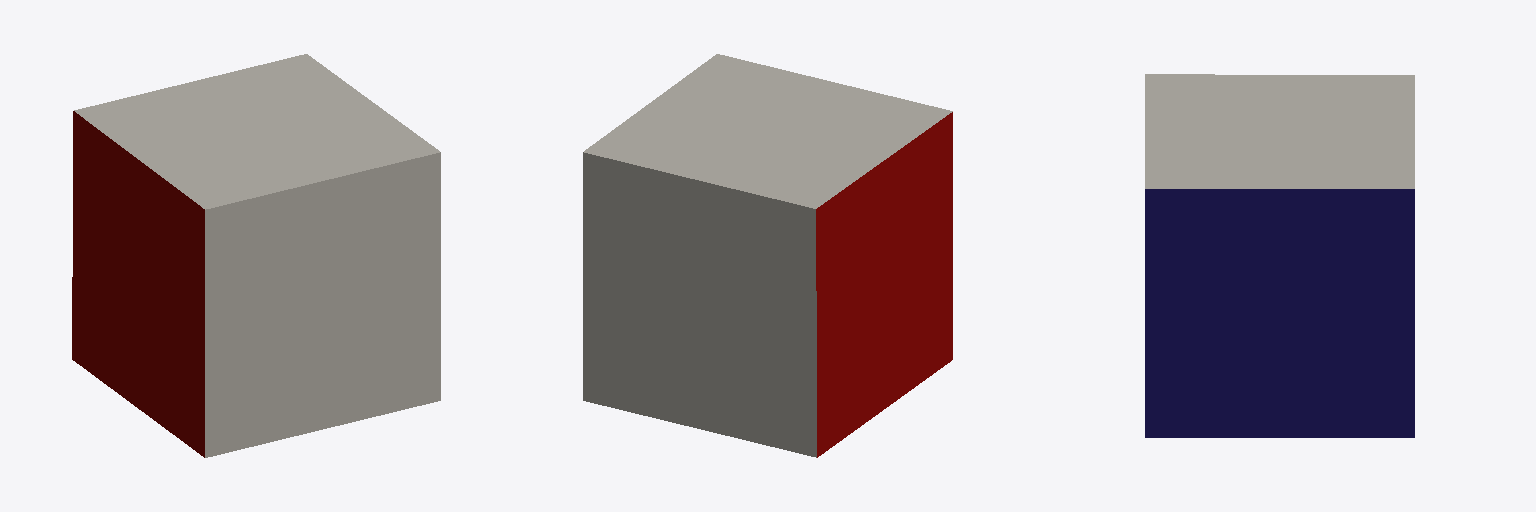
Rendered from cornellbox.obj.
3 renders of one model, left to right at view 1: azimuth 30°, elevation 25°; view 2: azimuth 150°, elevation 25°; view 3: azimuth 270°, elevation 25°, orthographic.
Visible parts, largest first — view 1: Ceiling, LeftWall, BackWall; view 2: Floor, LeftWall, BackWall; view 3: RightWall, BackWall.
Part boxes in pixels (left/top/right/bottom): Ceiling: left=205, top=152, right=440, bottom=457; LeftWall: left=72, top=111, right=204, bottom=457; BackWall: left=74, top=54, right=439, bottom=209; Floor: left=583, top=152, right=816, bottom=457; LeftWall: left=816, top=112, right=952, bottom=457; BackWall: left=584, top=54, right=952, bottom=208; RightWall: left=1145, top=189, right=1414, bottom=437; BackWall: left=1145, top=74, right=1414, bottom=188.
Size of the model in its own units: 42.46 by 42.71 by 41.91.